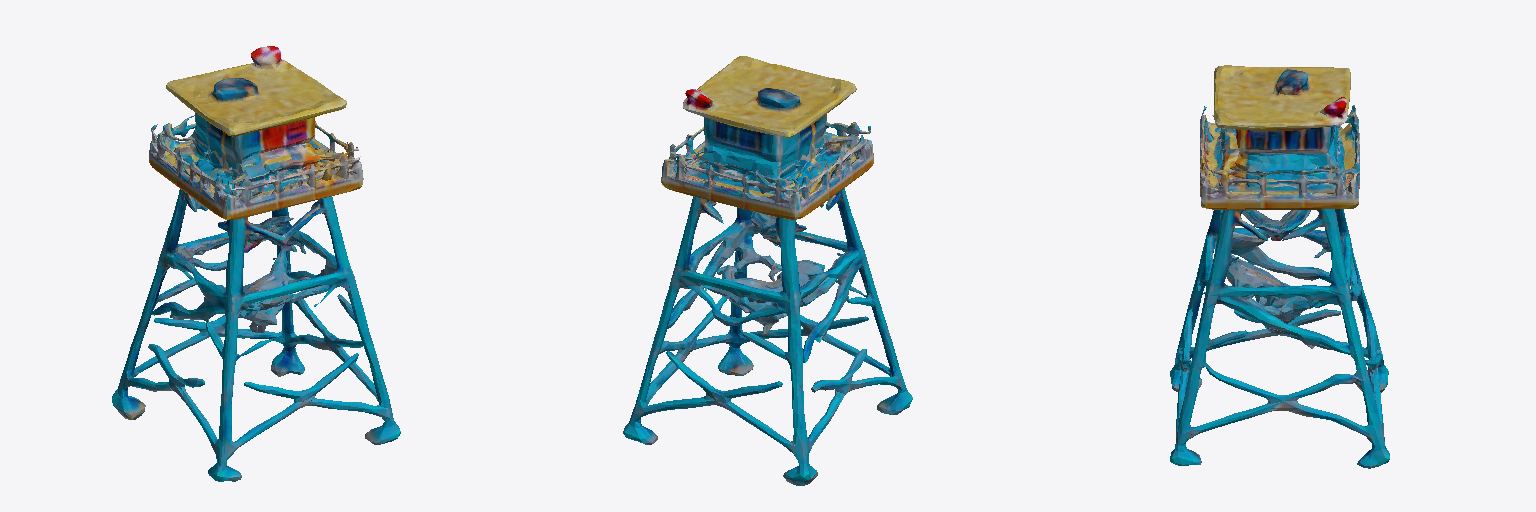
The picture shows the model from 3 angles: view 1: azimuth 30°, elevation 25°; view 2: azimuth 150°, elevation 25°; view 3: azimuth 270°, elevation 25°; orthographic projection.
Parts seen in each view (by area): view 1: mesh; view 2: mesh; view 3: mesh.
Part boxes in pixels (bbox=[...]): mesh: bbox=[112, 46, 400, 481]; mesh: bbox=[623, 56, 912, 485]; mesh: bbox=[1170, 65, 1389, 468].
Size of the model in its own units: 0.5511 by 1 by 0.5664.
1 materials, 1 textured.